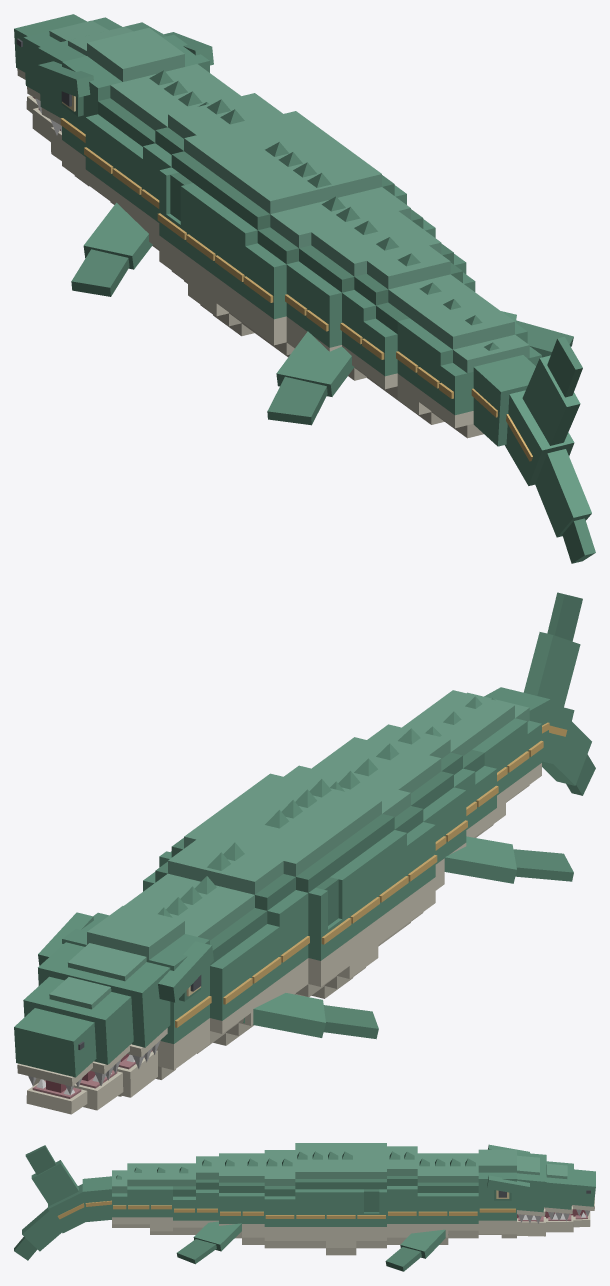
Rendered from Dakosaurus.glb.
3 views of the same model, one above another, from view 1: azimuth 30°, elevation 25°; view 2: azimuth 150°, elevation 25°; view 3: azimuth 270°, elevation 25° (orthographic). The views are drawn at different scales.
Parts seen in each view (by area): view 1: Head, S6, S7, S5, Fluke, S4, Tail, S1, S9, S10, S3, PaddleBL (+9 smaller); view 2: Head, S4, S3, S5, S6, S2, Fluke, S1, S7, S9, PaddleBL, PaddleFL (+8 smaller); view 3: Head, S5, S6, S4, S7, Fluke, S3, S1, S2, Tail, S8, S9 (+8 smaller).
Part boxes in pixels (left/top/right/bottom): Head: left=14, top=14, right=213, bottom=191; S6: left=215, top=153, right=406, bottom=343; S7: left=243, top=187, right=435, bottom=357; S5: left=186, top=132, right=352, bottom=336; Fluke: left=522, top=336, right=595, bottom=563; S4: left=157, top=111, right=324, bottom=283; Tail: left=471, top=355, right=574, bottom=485; S1: left=84, top=64, right=225, bottom=204; S9: left=306, top=227, right=466, bottom=380; S10: left=340, top=245, right=475, bottom=392; S3: left=141, top=93, right=282, bottom=249; PaddleBL: left=267, top=331, right=354, bottom=425; Head: left=14, top=906, right=213, bottom=1094; S4: left=159, top=815, right=351, bottom=996; S3: left=143, top=839, right=309, bottom=995; S5: left=213, top=794, right=379, bottom=998; S6: left=242, top=773, right=408, bottom=946; S2: left=139, top=873, right=281, bottom=1045; Fluke: left=523, top=592, right=595, bottom=795; S1: left=124, top=894, right=252, bottom=1053; S7: left=284, top=765, right=437, bottom=943; S9: left=333, top=737, right=467, bottom=856; PaddleBL: left=444, top=836, right=573, bottom=883; PaddleFL: left=243, top=993, right=378, bottom=1039; Head: left=478, top=1144, right=595, bottom=1238; S5: left=326, top=1143, right=356, bottom=1255; S6: left=295, top=1143, right=325, bottom=1248; S4: left=356, top=1143, right=386, bottom=1248; S7: left=264, top=1150, right=295, bottom=1248; Fluke: left=14, top=1145, right=78, bottom=1260; S3: left=387, top=1146, right=417, bottom=1244; S1: left=448, top=1153, right=478, bottom=1238; S2: left=417, top=1153, right=448, bottom=1244; Tail: left=48, top=1176, right=111, bottom=1233; S8: left=242, top=1153, right=264, bottom=1244; S9: left=219, top=1153, right=241, bottom=1238.
Size of the model in its own units: 11.13 by 7.37 by 34.27.
